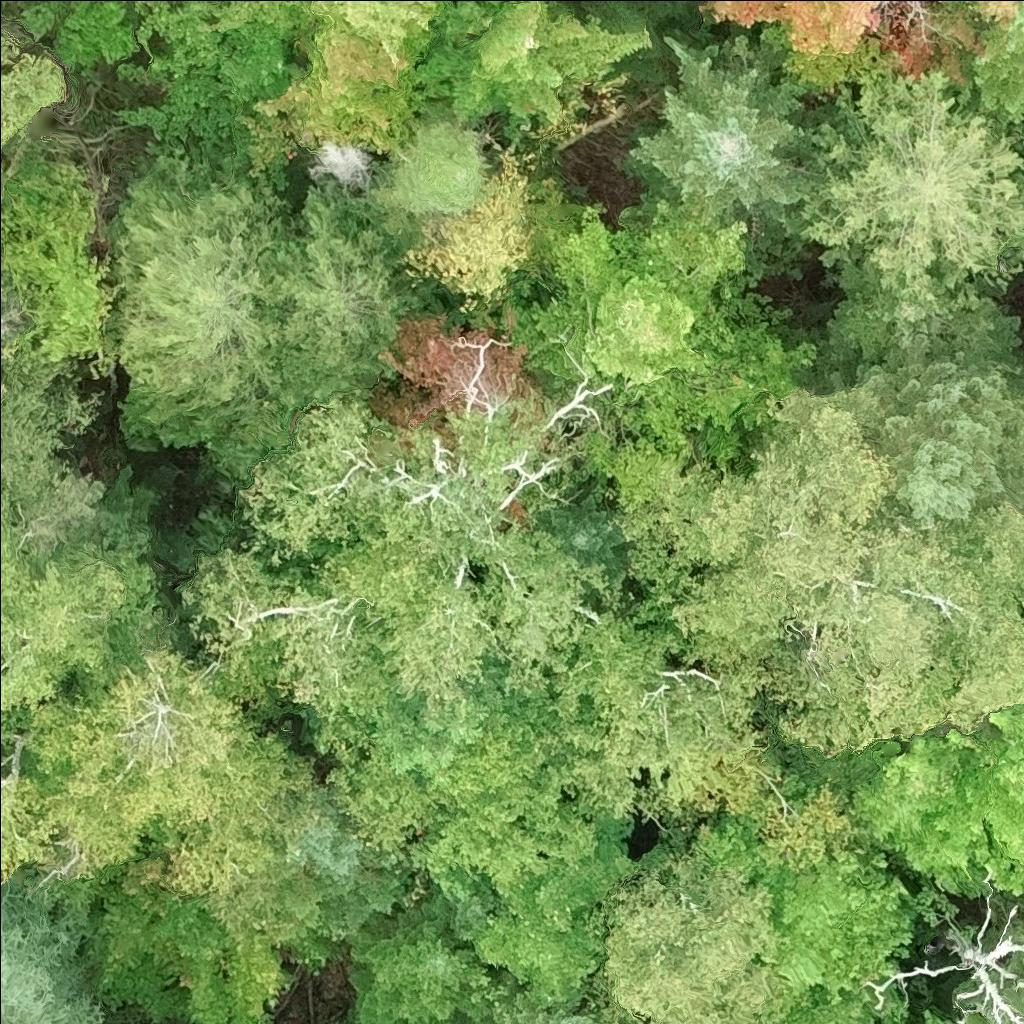crown: (622, 398, 1023, 756), (182, 403, 601, 744), (0, 643, 311, 935), (117, 158, 410, 465), (522, 207, 819, 449), (0, 407, 164, 768), (803, 74, 1023, 335), (272, 0, 653, 149), (546, 614, 768, 819), (711, 816, 918, 1013), (338, 696, 582, 861), (822, 333, 1023, 532), (636, 36, 814, 215), (862, 709, 1023, 897), (606, 854, 767, 1023), (124, 0, 304, 147), (89, 885, 269, 1023), (3, 162, 107, 366), (409, 146, 536, 306), (259, 791, 401, 934), (0, 870, 102, 1023), (898, 909, 1023, 1023), (343, 909, 462, 1023), (475, 924, 607, 1008), (705, 0, 886, 58), (0, 34, 66, 141), (978, 0, 1023, 122), (884, 0, 968, 65), (491, 998, 587, 1023), (0, 311, 23, 408), (954, 0, 1022, 27)
